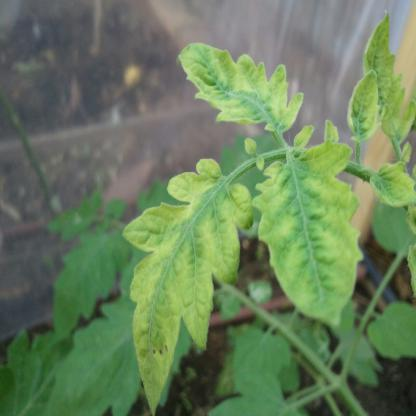Tomato leaf yellow virus: (130, 154, 252, 416), (260, 149, 368, 352), (160, 33, 300, 141), (359, 8, 412, 137), (344, 66, 377, 143)
